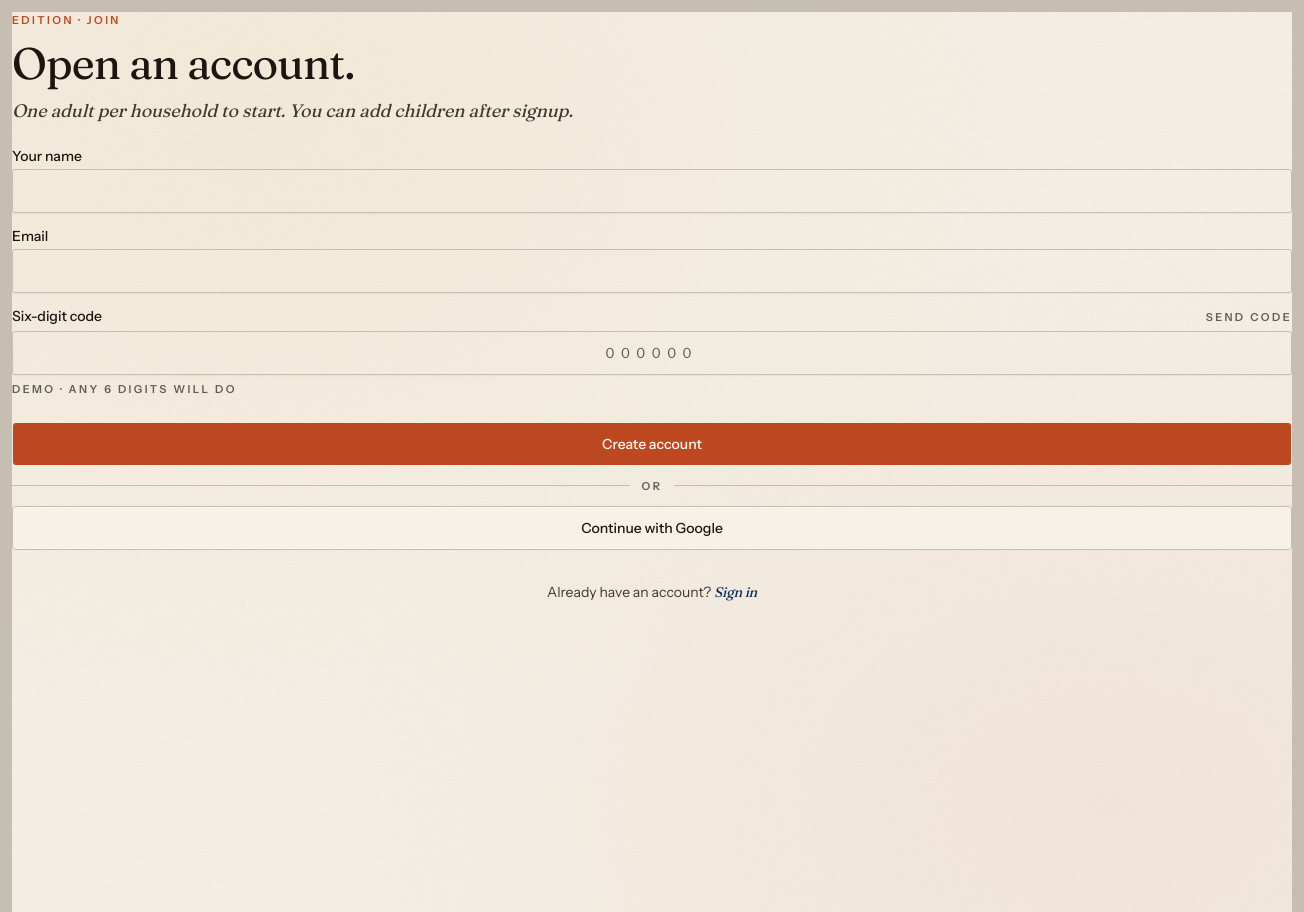
it: AuthForm — validation › signup: name empty (with email filled) → submit shows 'Your name is required.'
Type "parent@example.com" into the field labelled "Email".
click(652, 270); type("parent@example.com")  # box [12,248,1292,292]
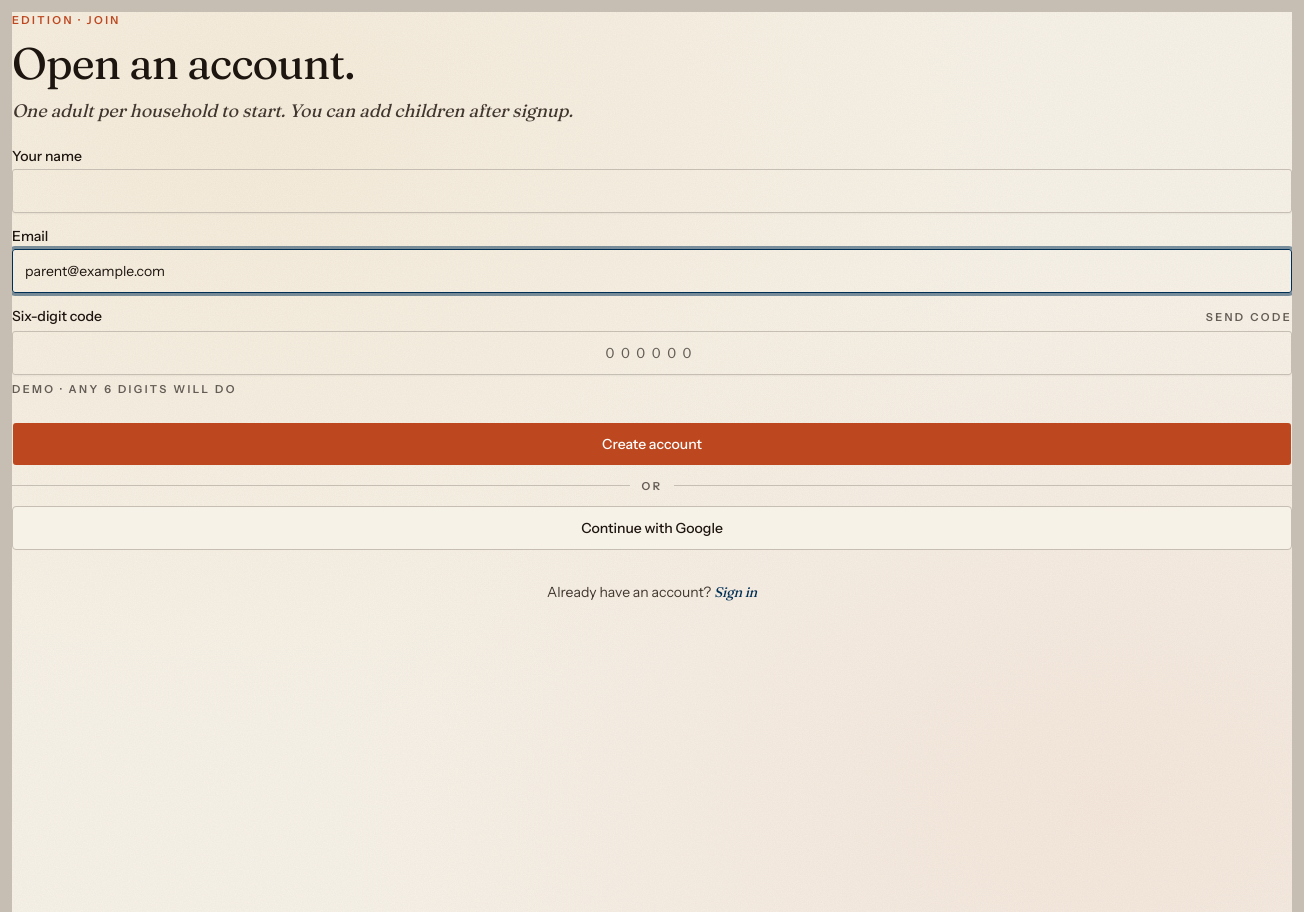
Click the button with test id "auth-submit".
click(652, 444)  # box [12,422,1292,466]
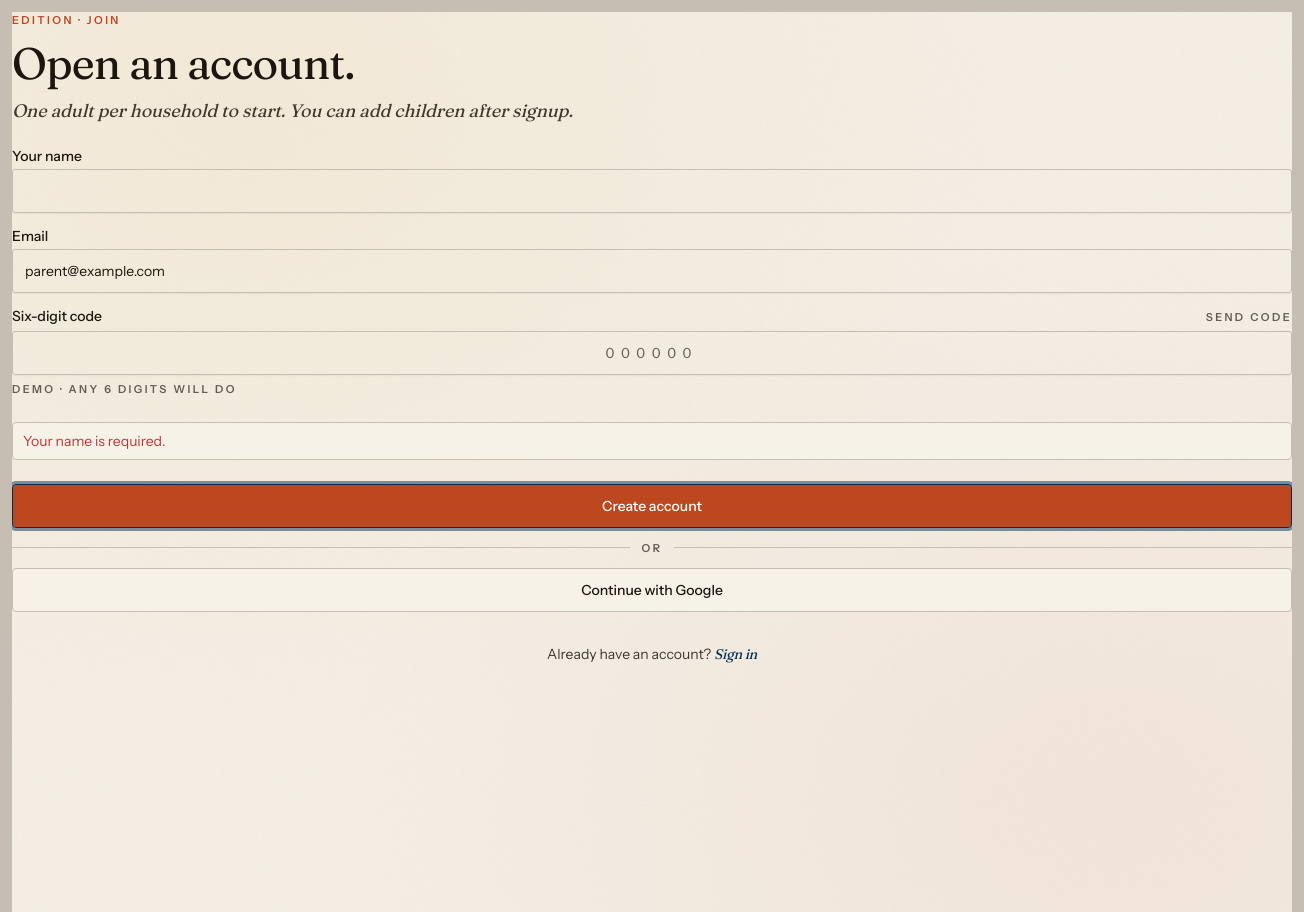
Check: the message "Your name is required." is shown, box [12,422,1292,460]
